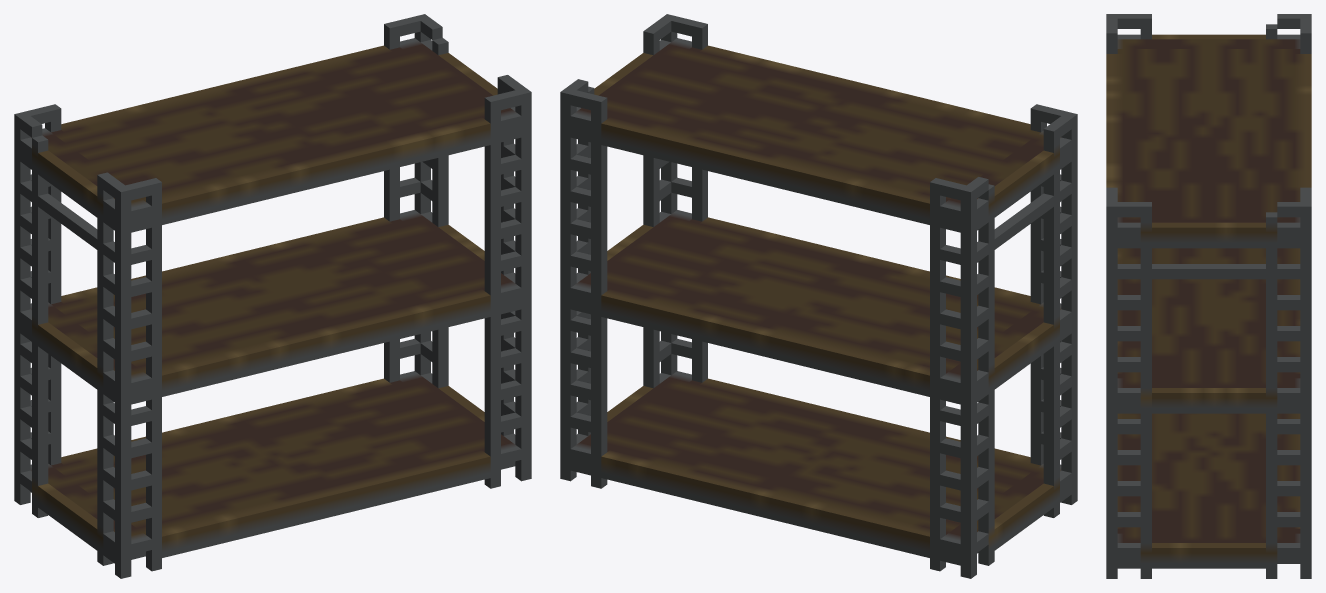
The model's file is Sorage_Shelf-1_00.fbx.
3 renders of one model, left to right at view 1: azimuth 30°, elevation 25°; view 2: azimuth 150°, elevation 25°; view 3: azimuth 270°, elevation 25°, orthographic. The views are drawn at different scales.
Visible parts, largest first — view 1: Sorage_Shelf-1_00; view 2: Sorage_Shelf-1_00; view 3: Sorage_Shelf-1_00.
Boxes of the visible parts, box(x1,y1,x2,y2) form: Sorage_Shelf-1_00: box(14, 14, 531, 578); Sorage_Shelf-1_00: box(560, 14, 1077, 578); Sorage_Shelf-1_00: box(1106, 14, 1311, 578).
Size of the model in its own units: 200 by 180 by 90.
